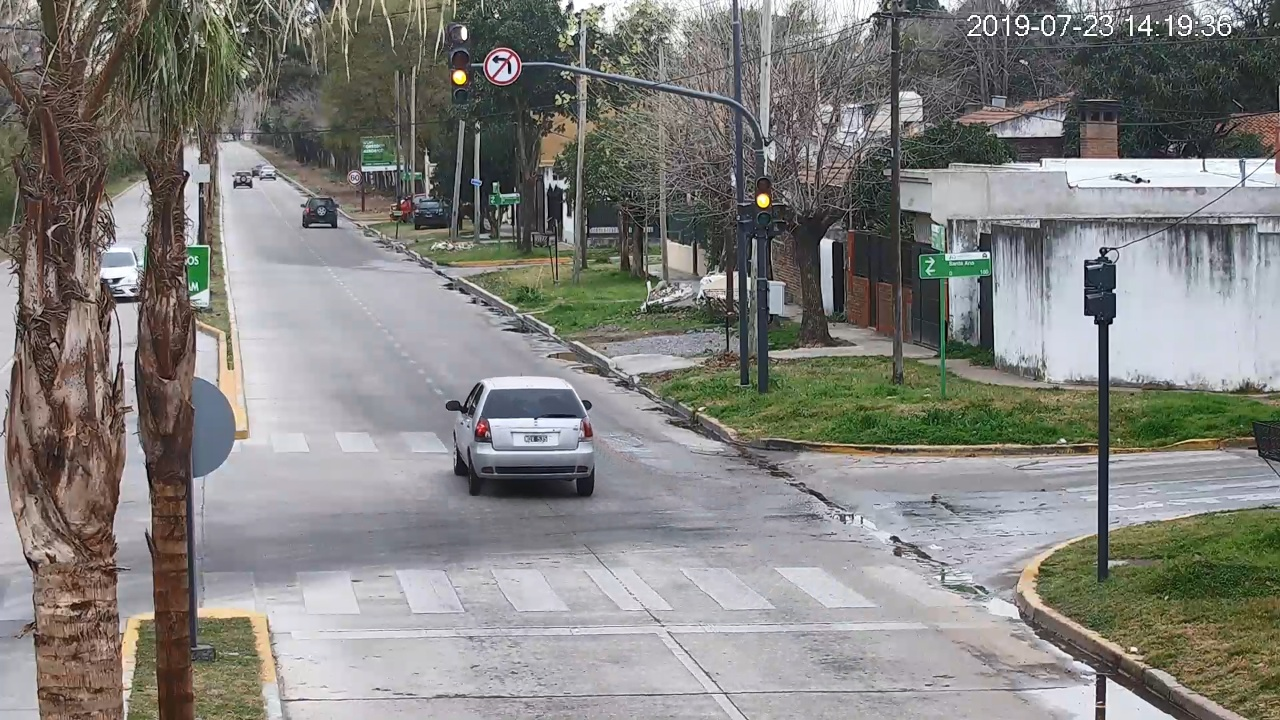car: (447, 377, 595, 497)
traffic light: (450, 48, 471, 104), (755, 175, 772, 226)
